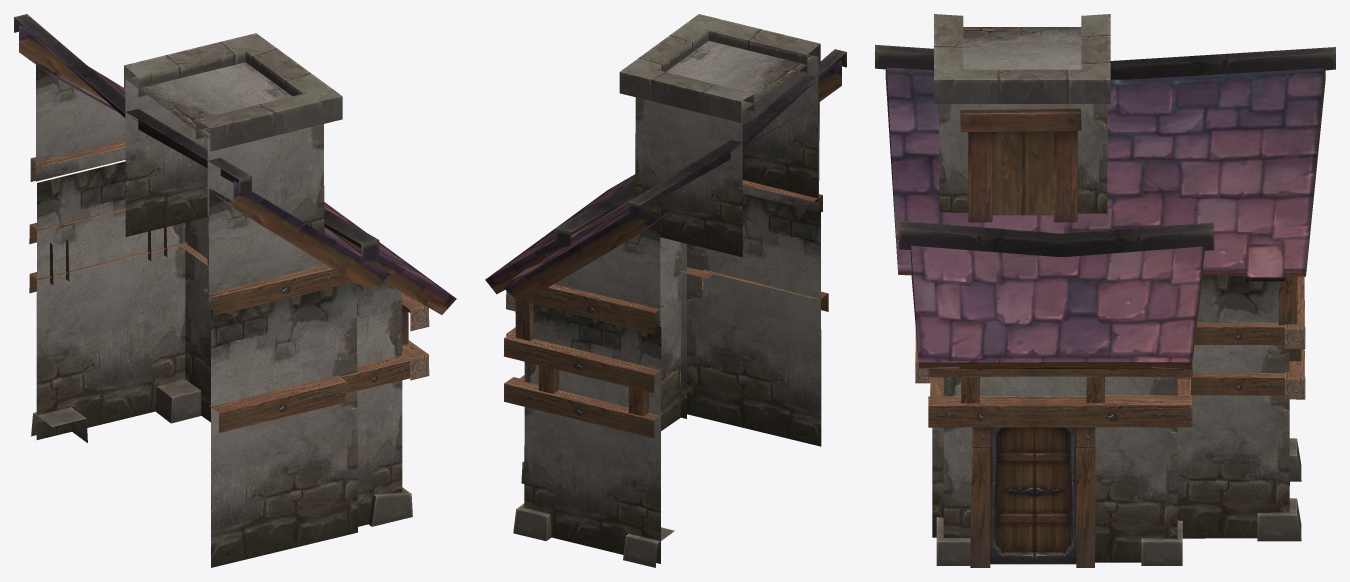
The model's file is building_city_zhuchengminfang04.FBX.
3 renders of one model, left to right at view 1: azimuth 30°, elevation 25°; view 2: azimuth 150°, elevation 25°; view 3: azimuth 270°, elevation 25°, orthographic. The views are drawn at different scales.
Parts seen in each view (by area): view 1: building_city_zhuchengminfang04; view 2: building_city_zhuchengminfang04; view 3: building_city_zhuchengminfang04.
Part boxes in pixels (left/top/right/bottom): building_city_zhuchengminfang04: left=14, top=14, right=456, bottom=567; building_city_zhuchengminfang04: left=485, top=14, right=846, bottom=567; building_city_zhuchengminfang04: left=875, top=14, right=1335, bottom=567.
Size of the model in its own units: 4.99 by 8.12 by 8.75.
